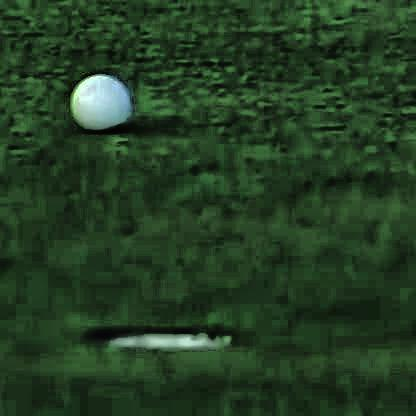golfball: (70, 70, 127, 127)
